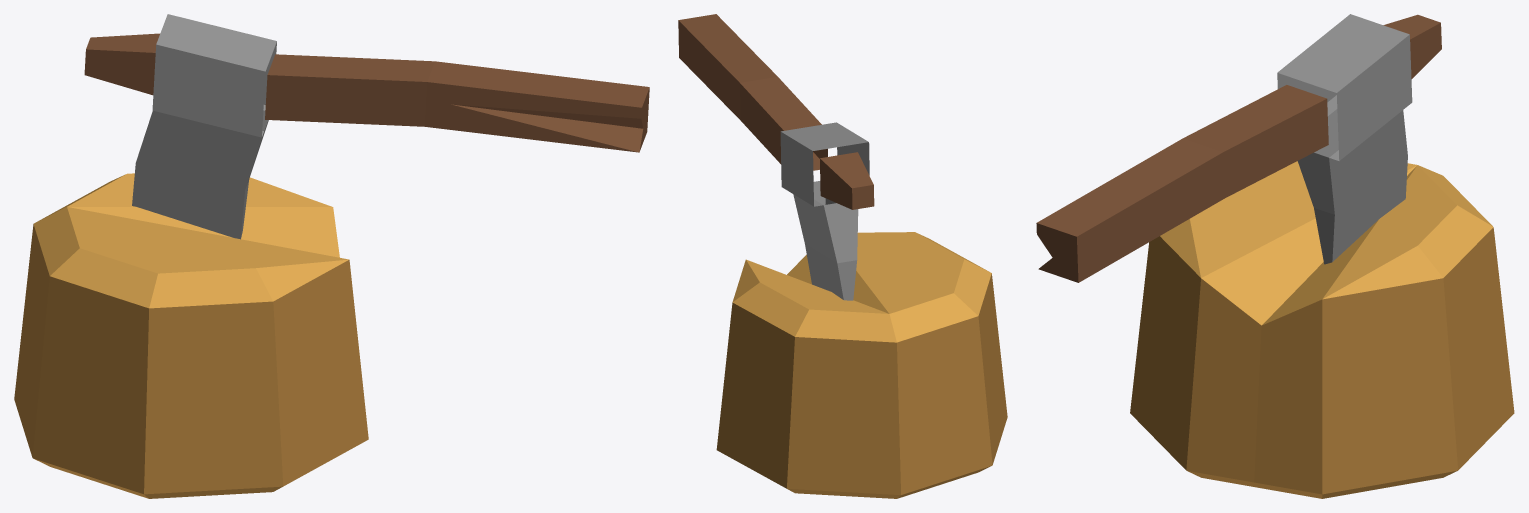
File: intro-stump-a.glb
3 views of the same model, side by side, from view 1: azimuth 30°, elevation 25°; view 2: azimuth 150°, elevation 25°; view 3: azimuth 270°, elevation 25° (orthographic). The views are drawn at different scales.
Visible parts, largest first — view 1: stump1; view 2: stump1; view 3: stump1.
Part boxes in pixels (bbox=[...]): stump1: bbox=[14, 14, 649, 498]; stump1: bbox=[678, 14, 1007, 498]; stump1: bbox=[1036, 14, 1514, 498].
Bounding box in the file's own units: 0.5188 × 0.3799 × 0.41.
